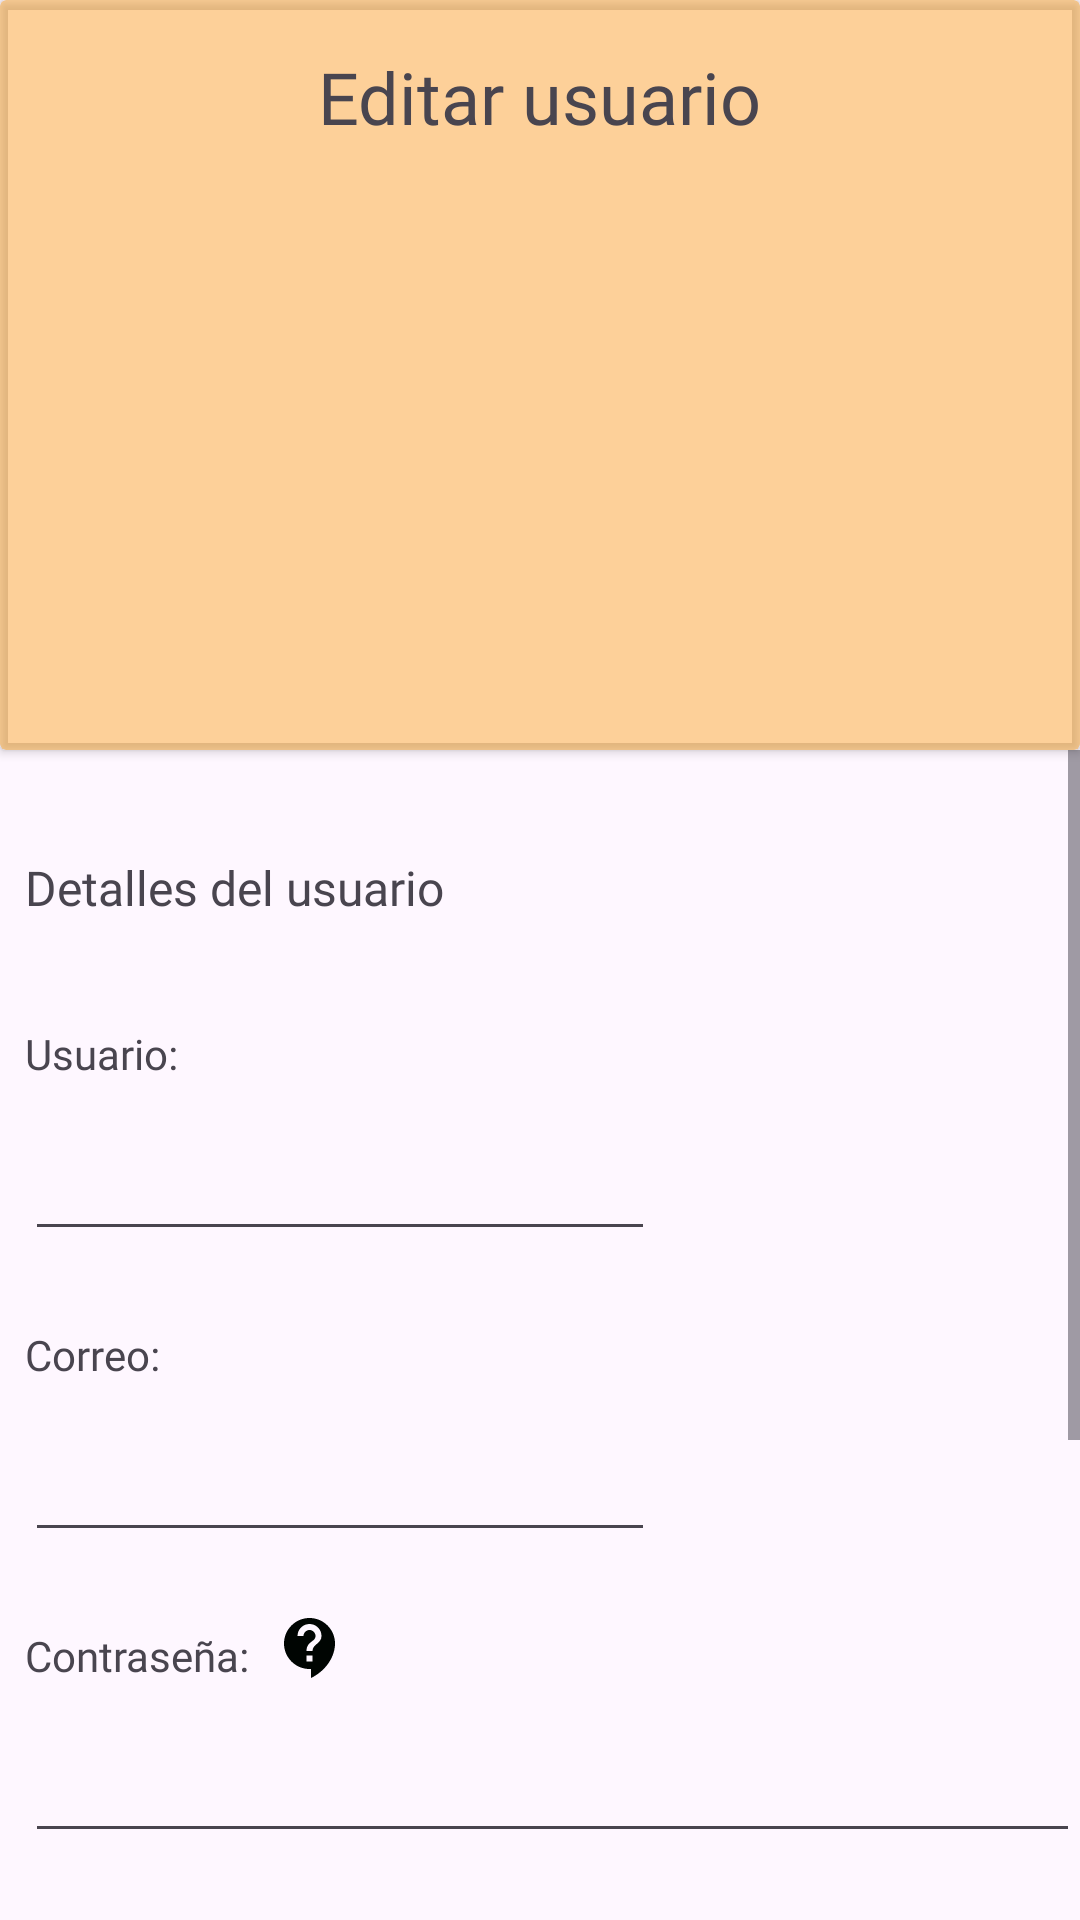

Where icons sit on this 1080*1920 app screen, as [x1,y1,x2,y2]:
contact support: [284,1618,335,1678]
